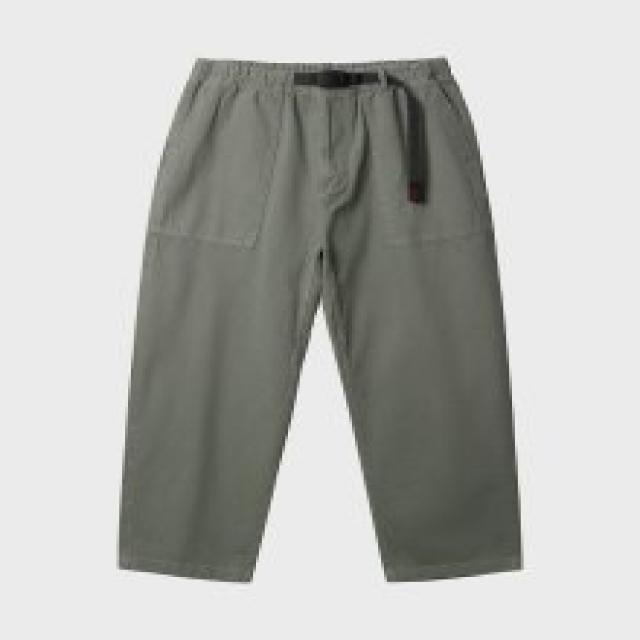long-pants: (114, 51, 524, 589)
